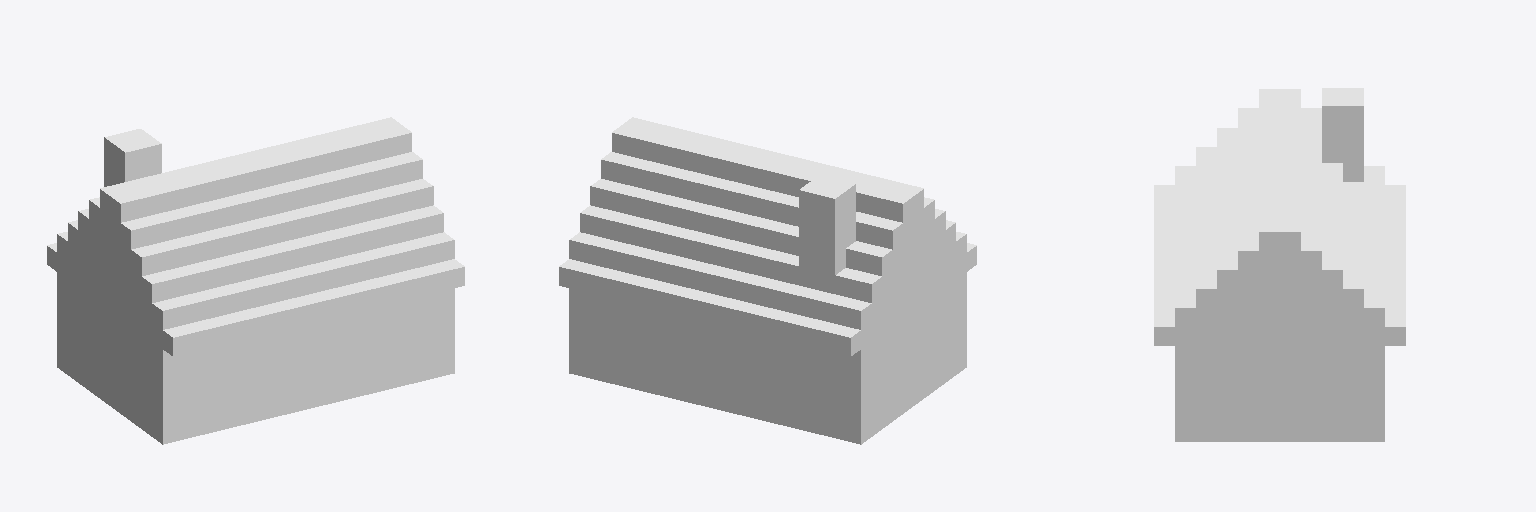
Rendered from House.obj.
The picture shows the model from 3 angles: view 1: azimuth 30°, elevation 25°; view 2: azimuth 150°, elevation 25°; view 3: azimuth 270°, elevation 25°; orthographic projection.
Size of the model in its own units: 16 by 12 by 12.